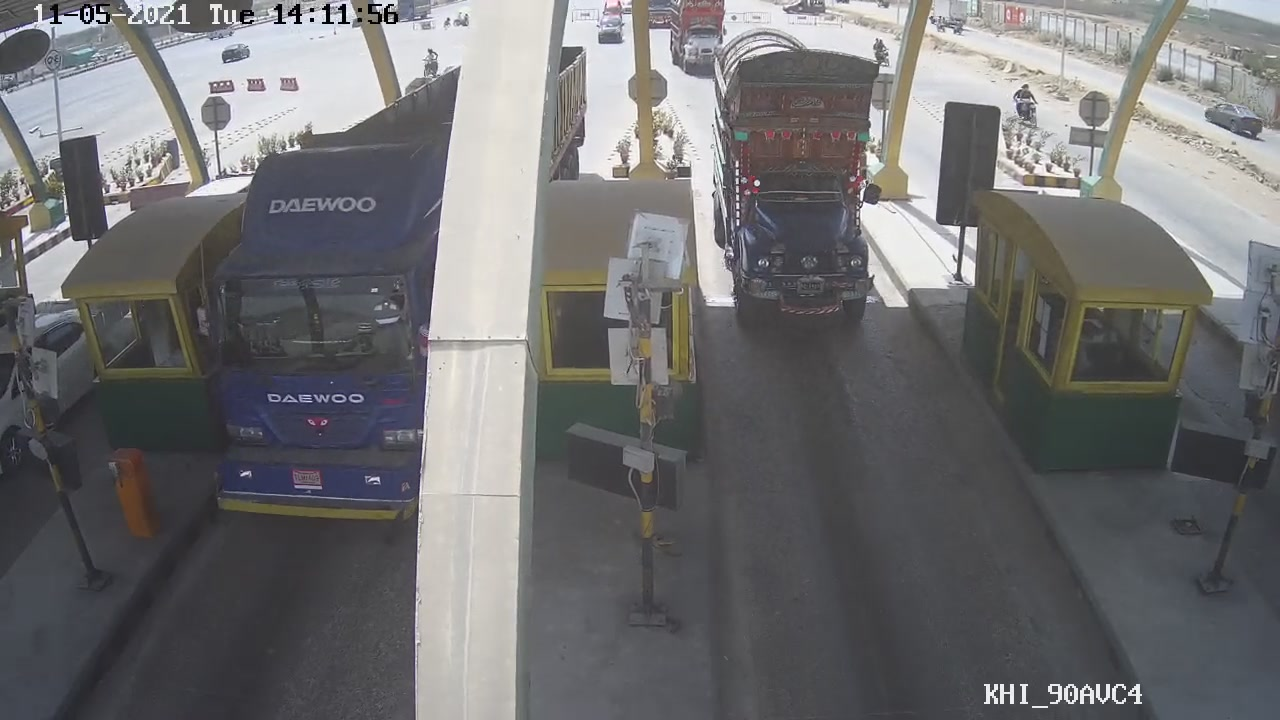F5: (700, 29, 898, 334)
